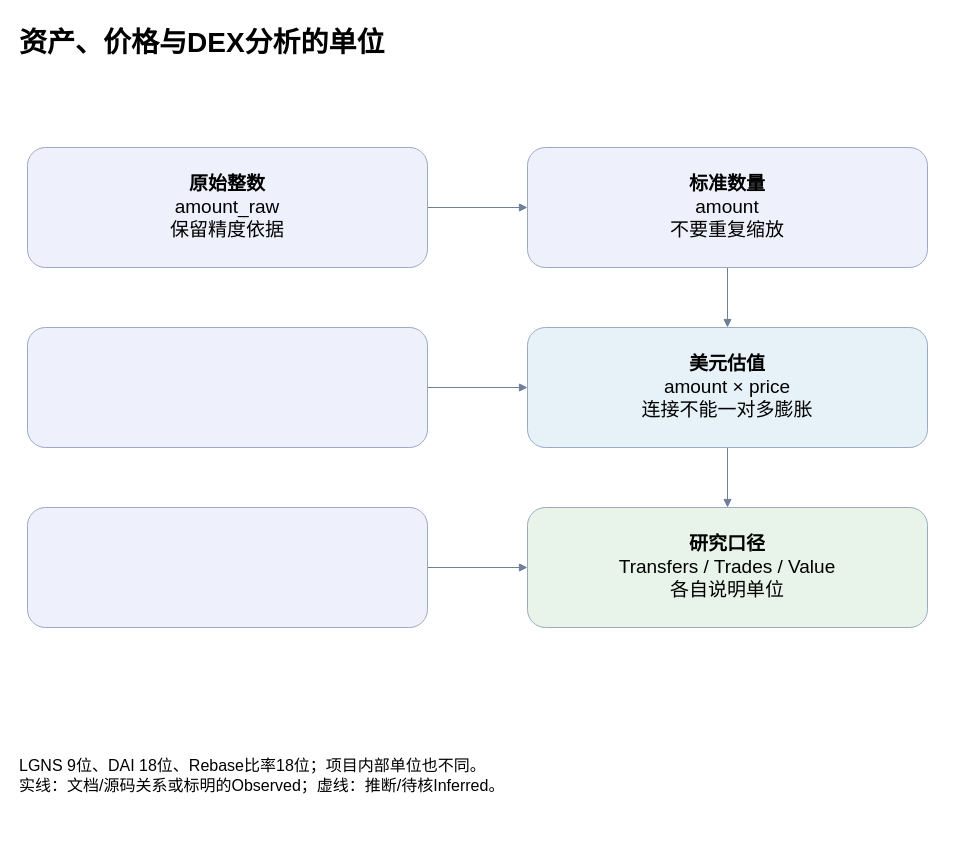
Image size: 954x849. Some labels were removed from this diagram. Each missing label, with the box of its shape:
历史价格 Price + Time + Source 缺价不等于零: (26, 326, 428, 448)
池子状态 Reserves + Fees 限制实际退出: (26, 506, 428, 628)
